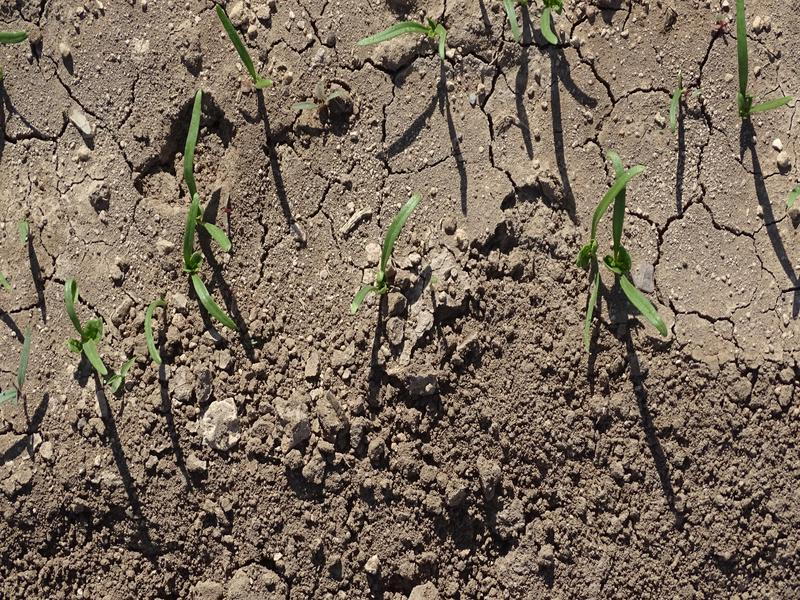Espinaca: (583, 159, 667, 354), (343, 191, 430, 318), (732, 1, 790, 123), (183, 196, 231, 340), (214, 4, 274, 87), (63, 282, 110, 374), (362, 12, 455, 56), (498, 4, 569, 46), (1, 332, 36, 404), (183, 92, 204, 189), (145, 297, 167, 365), (672, 76, 684, 132)
